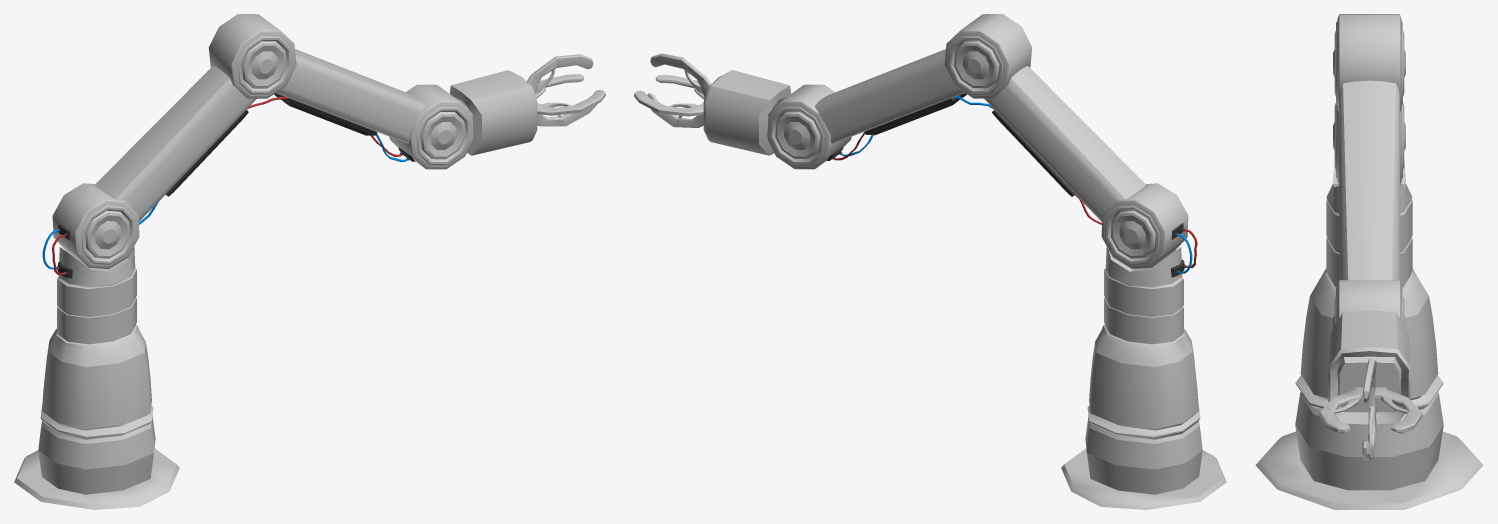
Rendered from Robotyczne_ramiefbx.fbx.
The picture shows the model from 3 angles, left to right: view 1: azimuth 30°, elevation 25°; view 2: azimuth 150°, elevation 25°; view 3: azimuth 270°, elevation 25°; orthographic projection. The views are drawn at different scales.
Parts seen in each view (by area): view 1: Dół, Ramie_01, Ramie_02, Koło_02, Koło_01, Ramie_03, Koło_03, Szczypce_02, Szczypce_01, Detal_02; view 2: Dół, Ramie_01, Ramie_02, Koło_02, Koło_01, Ramie_03, Koło_03, Szczypce_02, Szczypce_01, Detal_02; view 3: Dół, Ramie_02, Ramie_03, Koło_02, Koło_03, Szczypce_01, Szczypce_02, Koło_01.
Boxes of the visible parts, x1,y1,x2,y2 form: Dół: [14, 247, 179, 509]; Ramie_01: [95, 66, 256, 221]; Ramie_02: [276, 49, 425, 143]; Koło_02: [208, 14, 296, 98]; Koło_01: [52, 183, 139, 268]; Ramie_03: [449, 70, 537, 155]; Koło_03: [389, 84, 473, 169]; Szczypce_02: [527, 54, 597, 126]; Szczypce_01: [535, 74, 605, 115]; Detal_02: [274, 93, 377, 135]; Dół: [1061, 247, 1226, 509]; Ramie_01: [984, 66, 1145, 221]; Ramie_02: [815, 49, 964, 143]; Koło_02: [944, 14, 1032, 98]; Koło_01: [1101, 183, 1188, 268]; Ramie_03: [703, 70, 791, 155]; Koło_03: [767, 84, 851, 169]; Szczypce_02: [647, 53, 710, 127]; Szczypce_01: [634, 75, 704, 116]; Detal_02: [864, 93, 966, 135]; Dół: [1255, 162, 1483, 509]; Ramie_02: [1339, 80, 1400, 280]; Ramie_03: [1328, 310, 1410, 424]; Koło_02: [1333, 14, 1405, 112]; Koło_03: [1333, 279, 1405, 328]; Szczypce_01: [1319, 387, 1422, 433]; Szczypce_02: [1362, 359, 1376, 460]; Koło_01: [1333, 103, 1405, 185].
Size of the model in its own units: 973 by 680 by 257.
